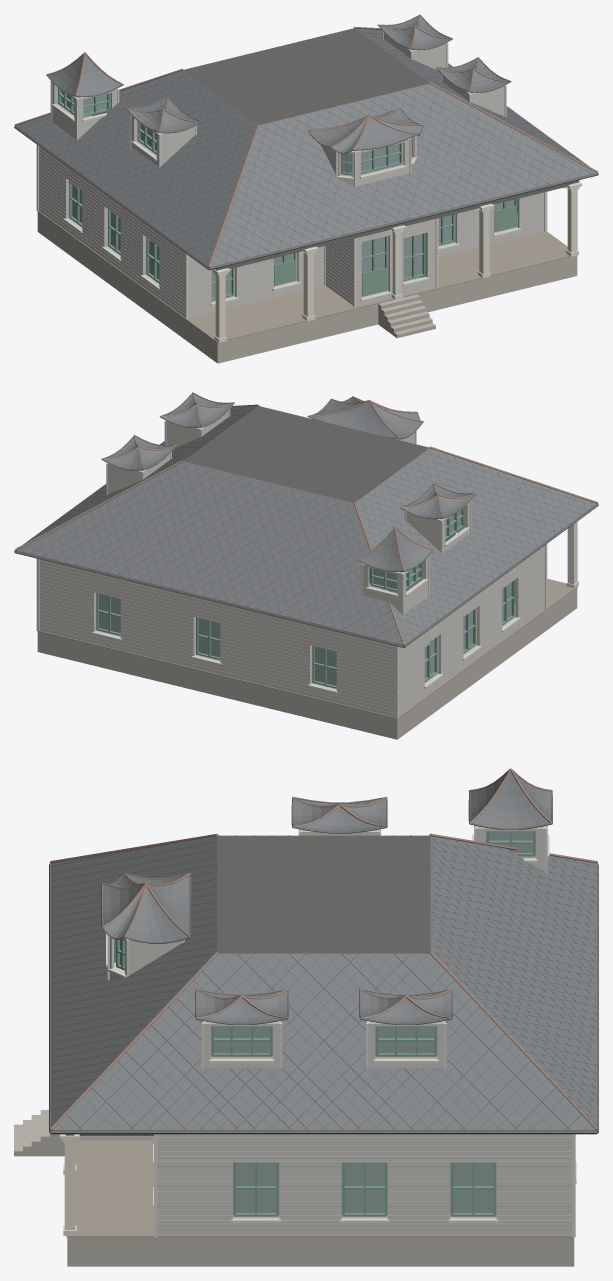
Rendered from xuhui-fenyang-customs-club-raw.glb.
3 renders of one model, top to bottom at view 1: azimuth 30°, elevation 25°; view 2: azimuth 150°, elevation 25°; view 3: azimuth 270°, elevation 25°, orthographic. The views are drawn at different scales.
Visible parts, largest first — view 1: 海关俱乐部木屋; view 2: 海关俱乐部木屋; view 3: 海关俱乐部木屋.
Boxes of the visible parts, <box> form: 海关俱乐部木屋: <box>14,14,598,363</box>; 海关俱乐部木屋: <box>14,392,598,739</box>; 海关俱乐部木屋: <box>14,768,598,1266</box>.
Bounding box in the file's own units: 19.33 × 8.97 × 17.78.
